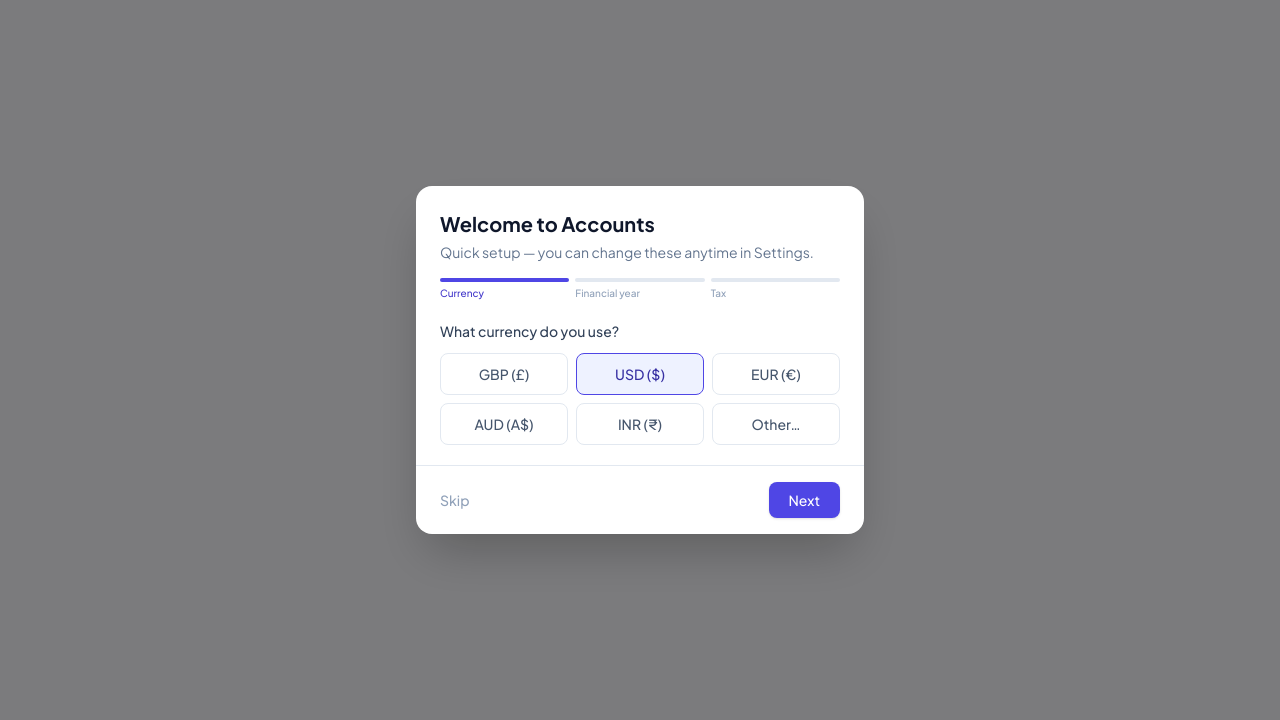
Test: SetupWizard › selecting GBP auto-selects Apr–Mar tax year and UK Sole Trader mode
Click the button "GBP (£)": point(504, 374) [440,353,568,395]
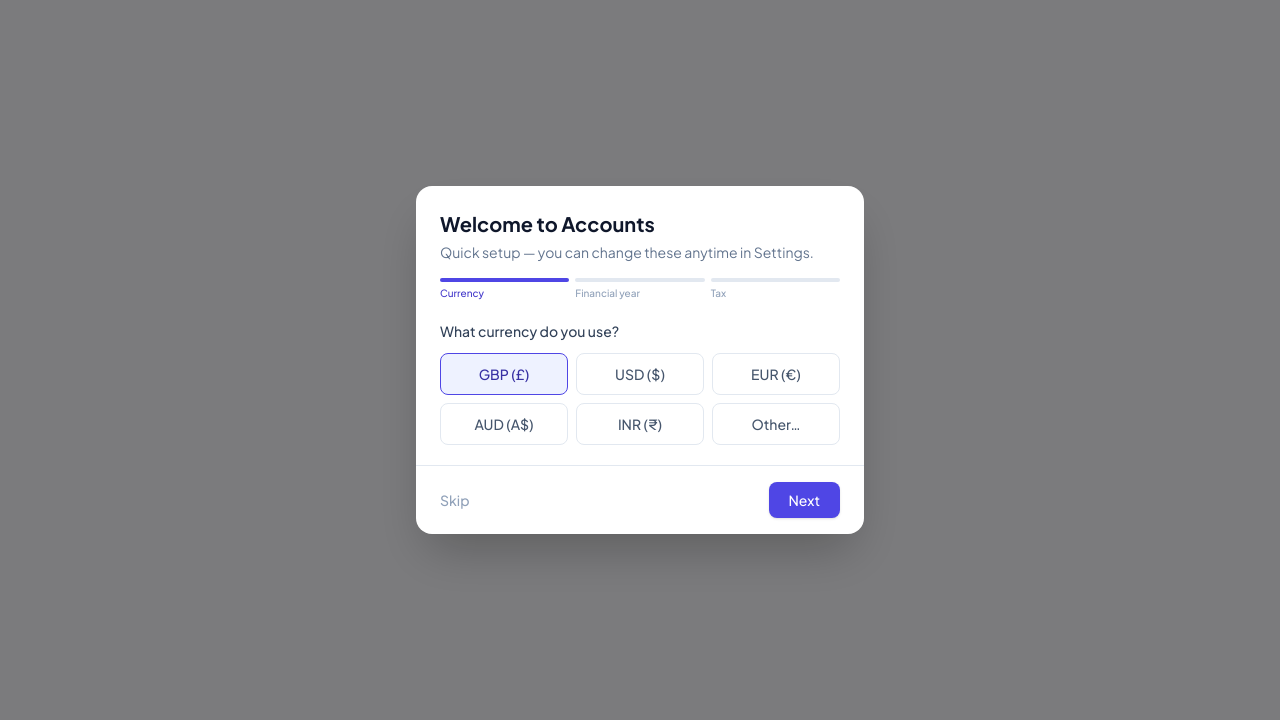
# Advance to step 1 to verify tax year
Click the button "Next": point(804, 500) [768,482,840,518]
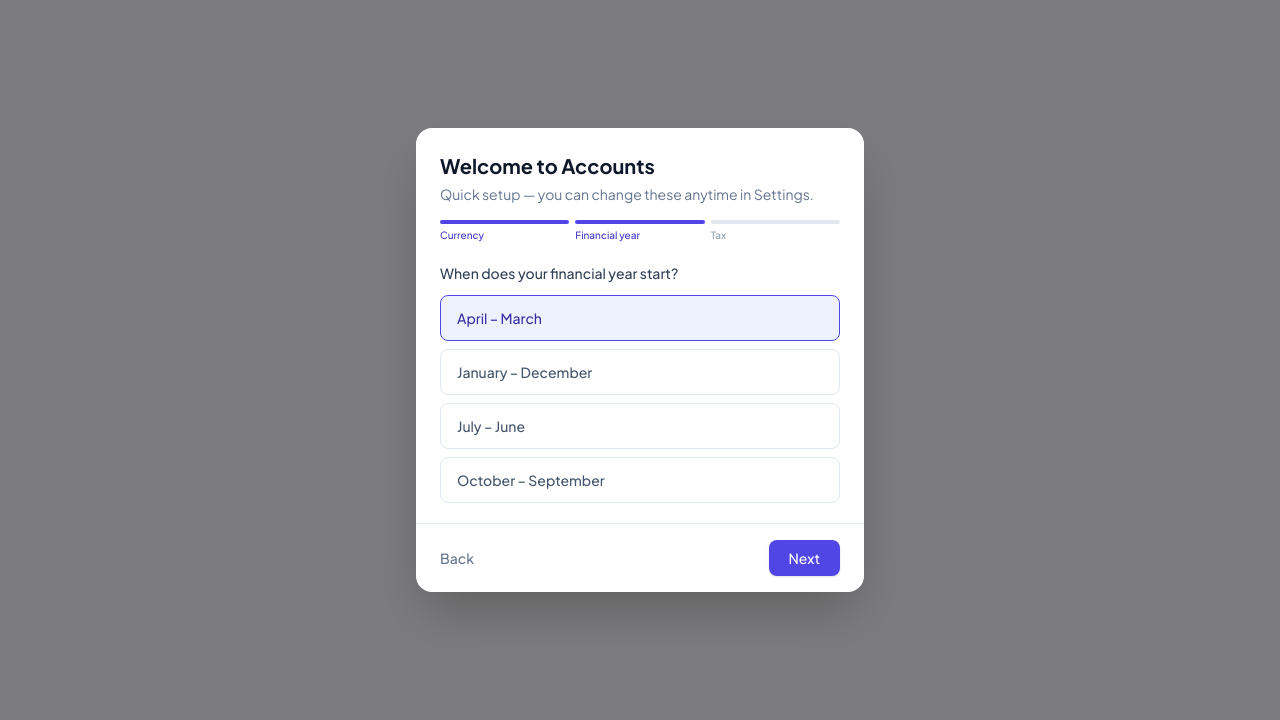
Now the text "When does your financial year start?" is shown, box [440,264,678,282]
